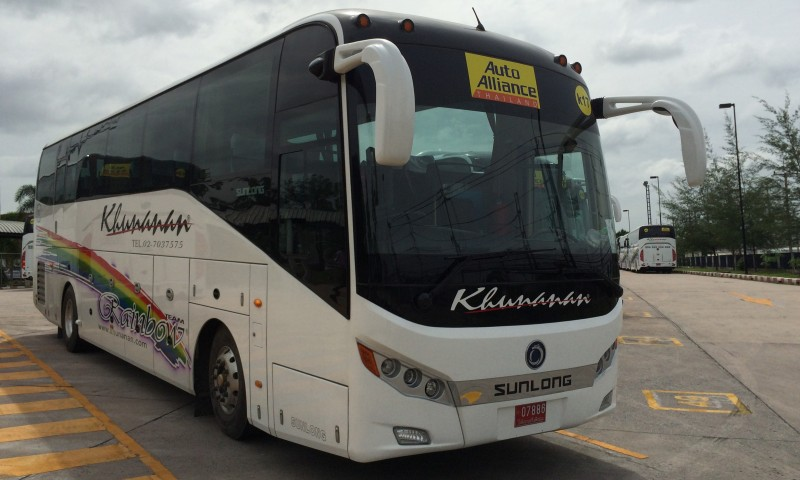bus: (33, 7, 623, 462)
